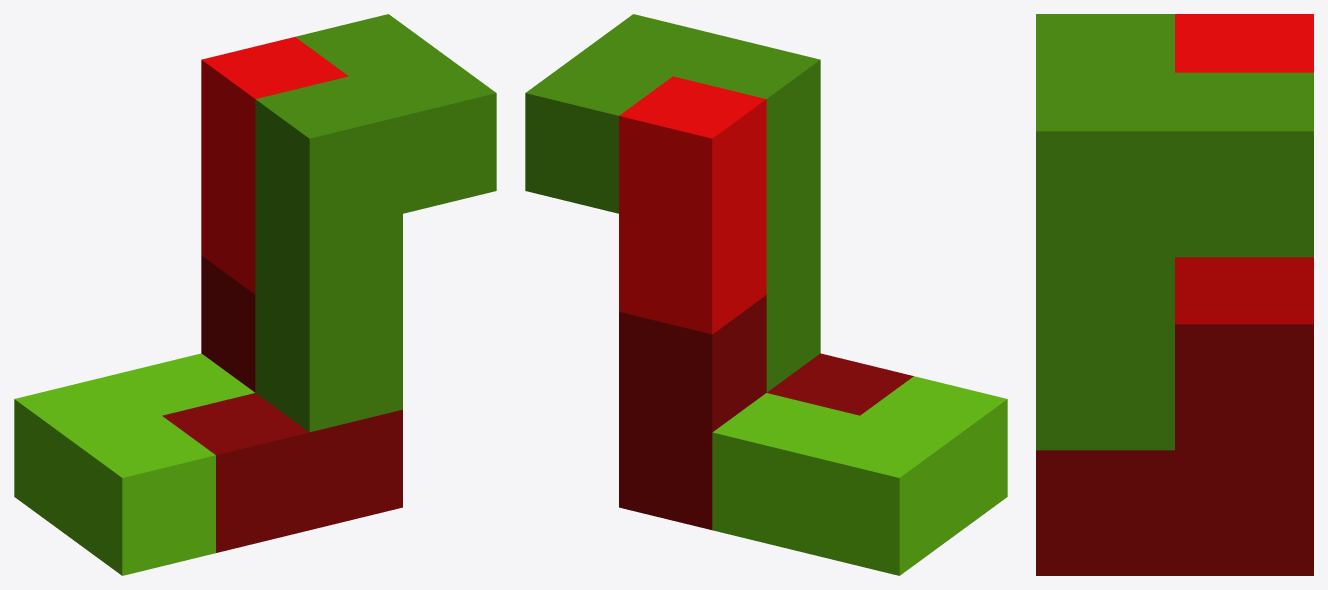
3 views of the same model, side by side, from view 1: azimuth 30°, elevation 25°; view 2: azimuth 150°, elevation 25°; view 3: azimuth 270°, elevation 25° (orthographic). The views are drawn at different scales.
Parts seen in each view (by area): view 1: mergedBlocks(Clone); view 2: mergedBlocks(Clone); view 3: mergedBlocks(Clone).
Part boxes in pixels (x1,y1,x2,y2): mergedBlocks(Clone): (14,14,496,575); mergedBlocks(Clone): (525,14,1007,575); mergedBlocks(Clone): (1036,14,1313,575).
Size of the model in its own units: 4 by 4 by 2.
Materials: 4 (4 with a texture image).
